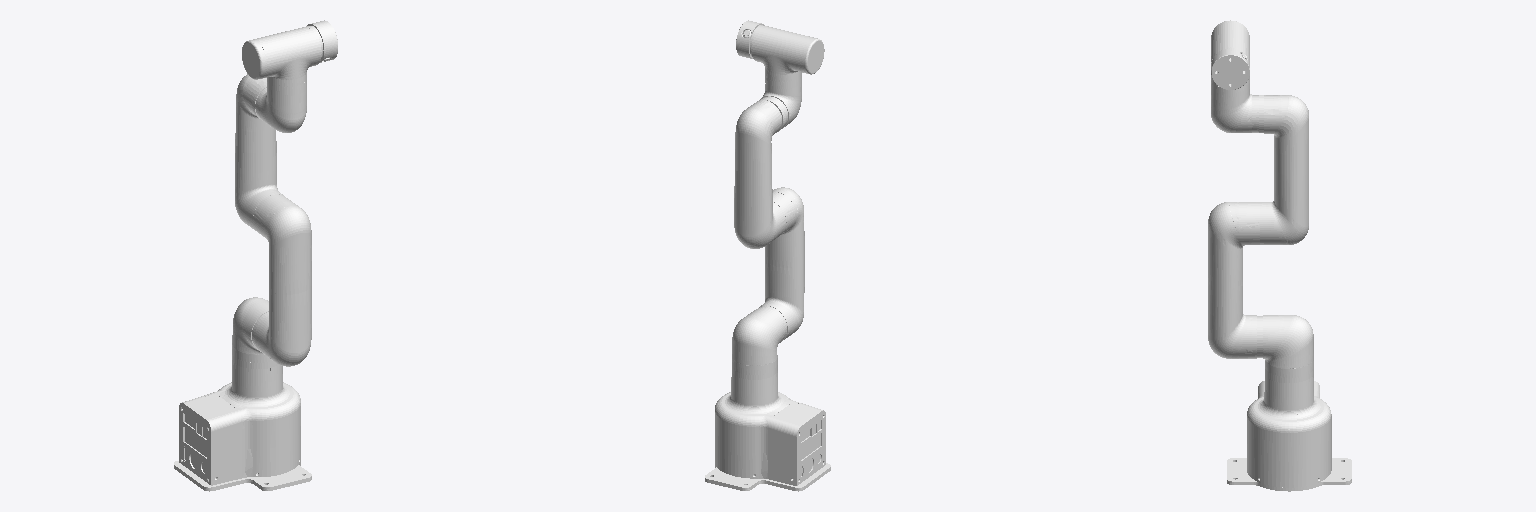
robot.urdf — firefighter:
<?xml version="1.0" encoding="utf-8"?>
<!-- Resource paths are relative to this model entry. -->
<robot name="firefighter">
  <link name="base">
    <visual>
      <geometry>
        <mesh filename="resources/mycobot_description/urdf/mycobot_pro_450/PRO450_J1.dae"/>
      </geometry>
      <origin rpy=" 0 0 -1.5708" xyz="-0.108 -0.003 0 "/>
    </visual>
    <collision>
      <geometry>
        <mesh filename="resources/mycobot_description/urdf/mycobot_pro_450/PRO450_J1.dae"/>
      </geometry>
      <origin rpy=" 0 0 -1.5708" xyz="-0.108 -0.003 0 "/>
    </collision>
  </link>
  <link name="link1">
    <visual>
      <geometry>
        <mesh filename="resources/mycobot_description/urdf/mycobot_pro_450/PRO450_J2.dae"/>
      </geometry>
      <origin rpy=" -1.5708 0 -3.14159 " xyz="0.0015 -0.0392 0.0 "/>
    </visual>
    <collision>
      <geometry>
        <mesh filename="resources/mycobot_description/urdf/mycobot_pro_450/PRO450_J2.dae"/>
      </geometry>
      <origin rpy=" -1.5708 0 -3.14159 " xyz="0.0015 -0.0392 0.0 "/>
    </collision>
  </link>
  <link name="link2">
    <visual>
      <geometry>
        <mesh filename="resources/mycobot_description/urdf/mycobot_pro_450/PRO450_J3.dae"/>
      </geometry>
      <origin rpy=" 0 0 1.5708 " xyz="0.0598 0.005 -0.203 "/>
    </visual>
    <collision>
      <geometry>
        <mesh filename="resources/mycobot_description/urdf/mycobot_pro_450/PRO450_J3.dae"/>
      </geometry>
      <origin rpy=" 0 0 1.5708" xyz="0.0598  0.005 -0.203 "/>
    </collision>
  </link>
  <link name="link3">
    <visual>
      <geometry>
        <mesh filename="resources/mycobot_description/urdf/mycobot_pro_450/PRO450_J4.dae"/>
      </geometry>
      <origin rpy=" 0 0 1.5708" xyz="0.07 0.005 -0.383 "/>
    </visual>
    <collision>
      <geometry>
        <mesh filename="resources/mycobot_description/urdf/mycobot_pro_450/PRO450_J4.dae"/>
      </geometry>
      <origin rpy=" 0 0 1.5708" xyz="0.07 0.005 -0.383"/>
    </collision>
  </link>
  <link name="link4">
    <visual>
      <geometry>
        <mesh filename="resources/mycobot_description/urdf/mycobot_pro_450/PRO450_J5.dae"/>
      </geometry>
      <origin rpy=" 0 -1.5708 0" xyz="-0.014 0 0.0 "/>
    </visual>
    <collision>
      <geometry>
        <mesh filename="resources/mycobot_description/urdf/mycobot_pro_450/PRO450_J5.dae"/>
      </geometry>
      <origin rpy=" 0 -1.5708 0" xyz="-0.014 0 0.0 "/>
    </collision>
  </link>
  <link name="link5">
    <visual>
      <geometry>
        <mesh filename="resources/mycobot_description/urdf/mycobot_pro_450/PRO450_J6.dae"/>
      </geometry>
      <origin rpy=" 0 0 0" xyz="0.004 -0.024 -0.655 "/>
    </visual>
    <collision>
      <geometry>
        <mesh filename="resources/mycobot_description/urdf/mycobot_pro_450/PRO450_J6.dae"/>
      </geometry>
      <origin rpy=" 0 0 0" xyz="0.004 -0.024 -0.655 "/>
    </collision>
  </link>
  <link name="link6">
    <visual>
      <geometry>
        <mesh filename="resources/mycobot_description/urdf/mycobot_pro_450/PRO450_J6_end.dae"/>
      </geometry>
      <origin rpy=" 3.14159 0 0" xyz="0 0 0 "/>
    </visual>
    <collision>
      <geometry>
        <mesh filename="resources/mycobot_description/urdf/mycobot_pro_450/PRO450_J6_end.dae"/>
      </geometry>
      <origin rpy=" 3.14159 0 0" xyz="0 0 0 "/>
    </collision>
  </link>
  <joint name="joint1" type="revolute">
    <axis xyz="0 0 1"/>
    <limit effort="1000.0" lower="-2.8274" upper="2.8274" velocity="0"/>
    <parent link="base"/>
    <child link="link1"/>
    <origin rpy="0 0 0" xyz="0 0 0.210"/>
  </joint>
  <joint name="joint2" type="revolute">
    <axis xyz="1 0 0"/>
    <limit effort="1000.0" lower="-2.1816" upper="2.1816" velocity="0"/>
    <parent link="link1"/>
    <child link="link2"/>
    <origin rpy="0 0 -1.5708" xyz="0 -0.048 0"/>
  </joint>
  <joint name="joint3" type="revolute">
    <axis xyz=" 1 0 0"/>
    <limit effort="1000.0" lower="-2.6878" upper="2.6878" velocity="0"/>
    <parent link="link2"/>
    <child link="link3"/>
    <origin rpy="0 0 0" xyz="-0.01 0 0.18  "/>
  </joint>
  <joint name="joint4" type="revolute">
    <axis xyz=" 1 0 0"/>
    <limit effort="1000.0" lower="-2.8274" upper="2.8274" velocity="0"/>
    <parent link="link3"/>
    <child link="link4"/>
    <origin rpy="0 0 0" xyz="0 0 0.173"/>
  </joint>
  <joint name="joint5" type="revolute">
    <axis xyz="0 0 1"/>
    <limit effort="1000.0" lower="-2.8274" upper="2.8274" velocity="0"/>
    <parent link="link4"/>
    <child link="link5"/>
    <origin rpy="0 0 0" xyz="0.0455 0 0.097"/>
  </joint>
  <joint name="joint6" type="revolute">
    <axis xyz="1 0 0"/>
    <limit effort="1000.0" lower="-2.8797" upper="2.8797" velocity="0"/>
    <parent link="link5"/>
    <child link="link6"/>
    <origin rpy="0 0 1.5708" xyz="0 0.04 0"/>
  </joint>
</robot>

--- Facts derived from the render (not from the file) ---
Views: 3 orthographic renders of the robot side by side, from view 1: azimuth 30°, elevation 25°; view 2: azimuth 150°, elevation 25°; view 3: azimuth 270°, elevation 25°.
Model firefighter with 7 links and 6 joints (6 revolute), rooted at base, posed every joint at zero.
Visible links, largest first — view 1: base, link2, link3, link5, link4, link1, link6; view 2: base, link3, link2, link5, link1, link4, link6; view 3: base, link2, link3, link1, link4, link6, link5.
Boxes of the visible links, x1,y1,x2,y2 form: base: (174,355,311,491); link2: (253,194,311,366); link3: (235,74,283,230); link5: (242,27,321,86); link4: (252,80,306,132); link1: (232,297,271,362); link6: (306,20,337,62); base: (705,365,830,491); link3: (734,100,785,248); link2: (759,187,804,341); link5: (751,26,824,81); link1: (732,306,786,374); link4: (759,74,801,131); link6: (736,20,764,58); base: (1227,369,1351,491); link2: (1208,202,1259,358); link3: (1260,95,1308,244); link1: (1257,315,1313,378); link4: (1211,82,1263,132); link6: (1211,47,1249,89); link5: (1211,20,1249,87).
Bounding box of the posed robot: 0.1757 × 0.2065 × 0.6953 m (x, y, z).
7 mesh visuals loaded from 7 distinct referenced files (7 Collada DAE).
